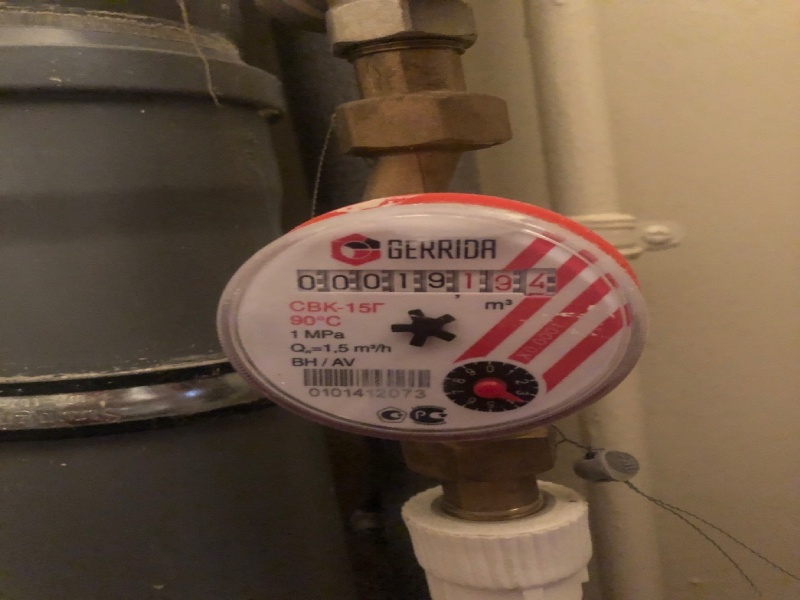dial: (290, 269, 562, 295)
